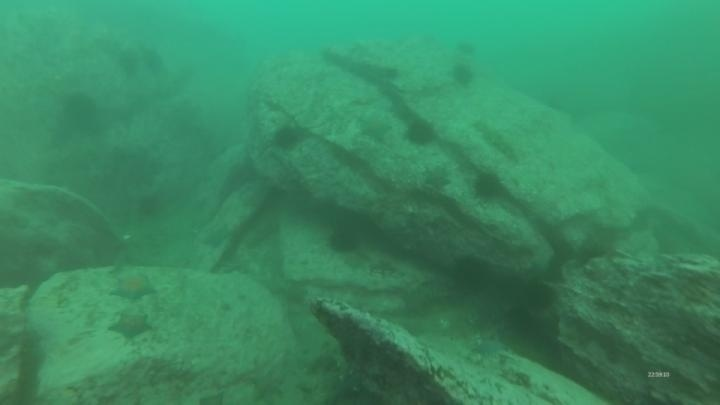echinus: (448, 253, 492, 295), (59, 90, 101, 134), (325, 222, 364, 256), (521, 279, 558, 314), (502, 303, 539, 338), (470, 168, 505, 203), (403, 117, 438, 149), (271, 123, 304, 153), (115, 48, 142, 79), (140, 45, 166, 77), (449, 61, 477, 89), (454, 38, 478, 58)
holothurian: (473, 116, 522, 163)
starfish: (245, 363, 288, 404), (109, 271, 158, 303), (106, 310, 154, 342), (356, 112, 394, 143), (421, 163, 453, 192), (470, 336, 509, 359)
